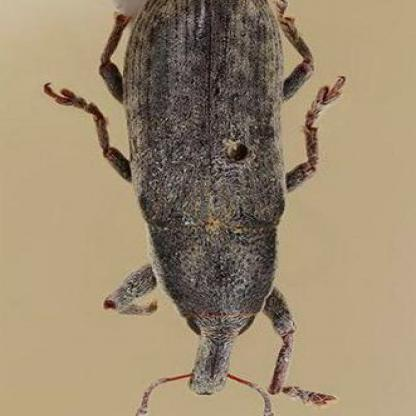rice-bug: (63, 0, 345, 416)
